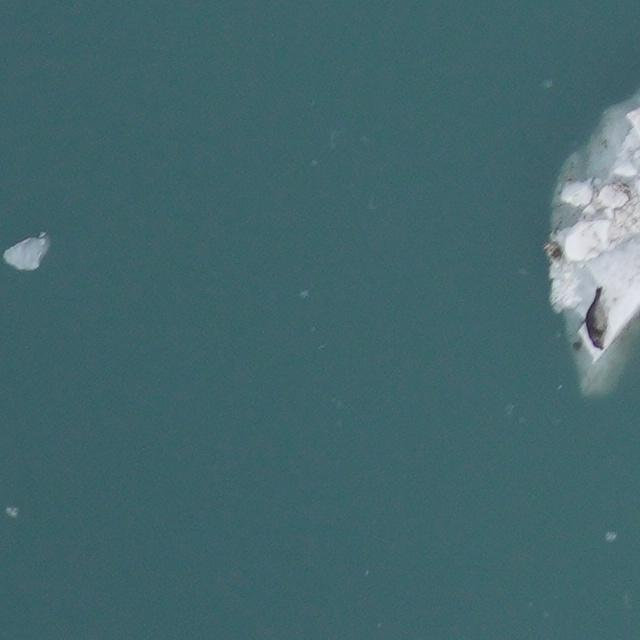seal: (582, 282, 612, 352)
